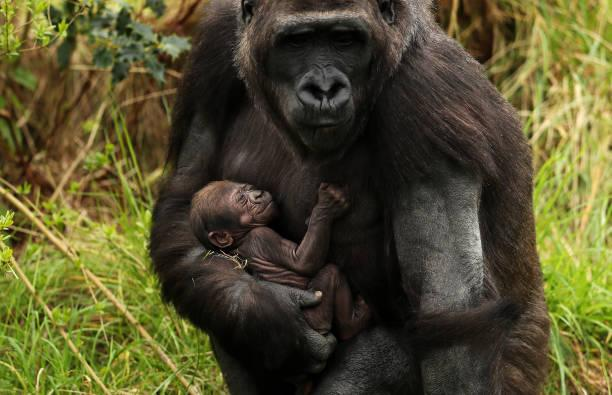gorille_Autres: (170, 0, 541, 388), (191, 166, 378, 348)
